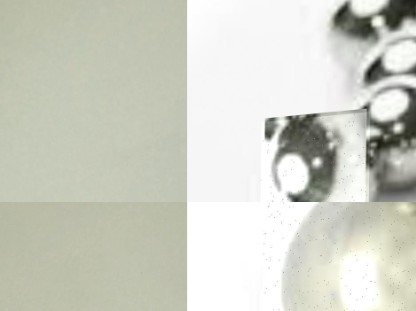ironball: (261, 202, 415, 310), (260, 117, 370, 202), (348, 80, 414, 198), (322, 0, 414, 76), (357, 30, 414, 86)
